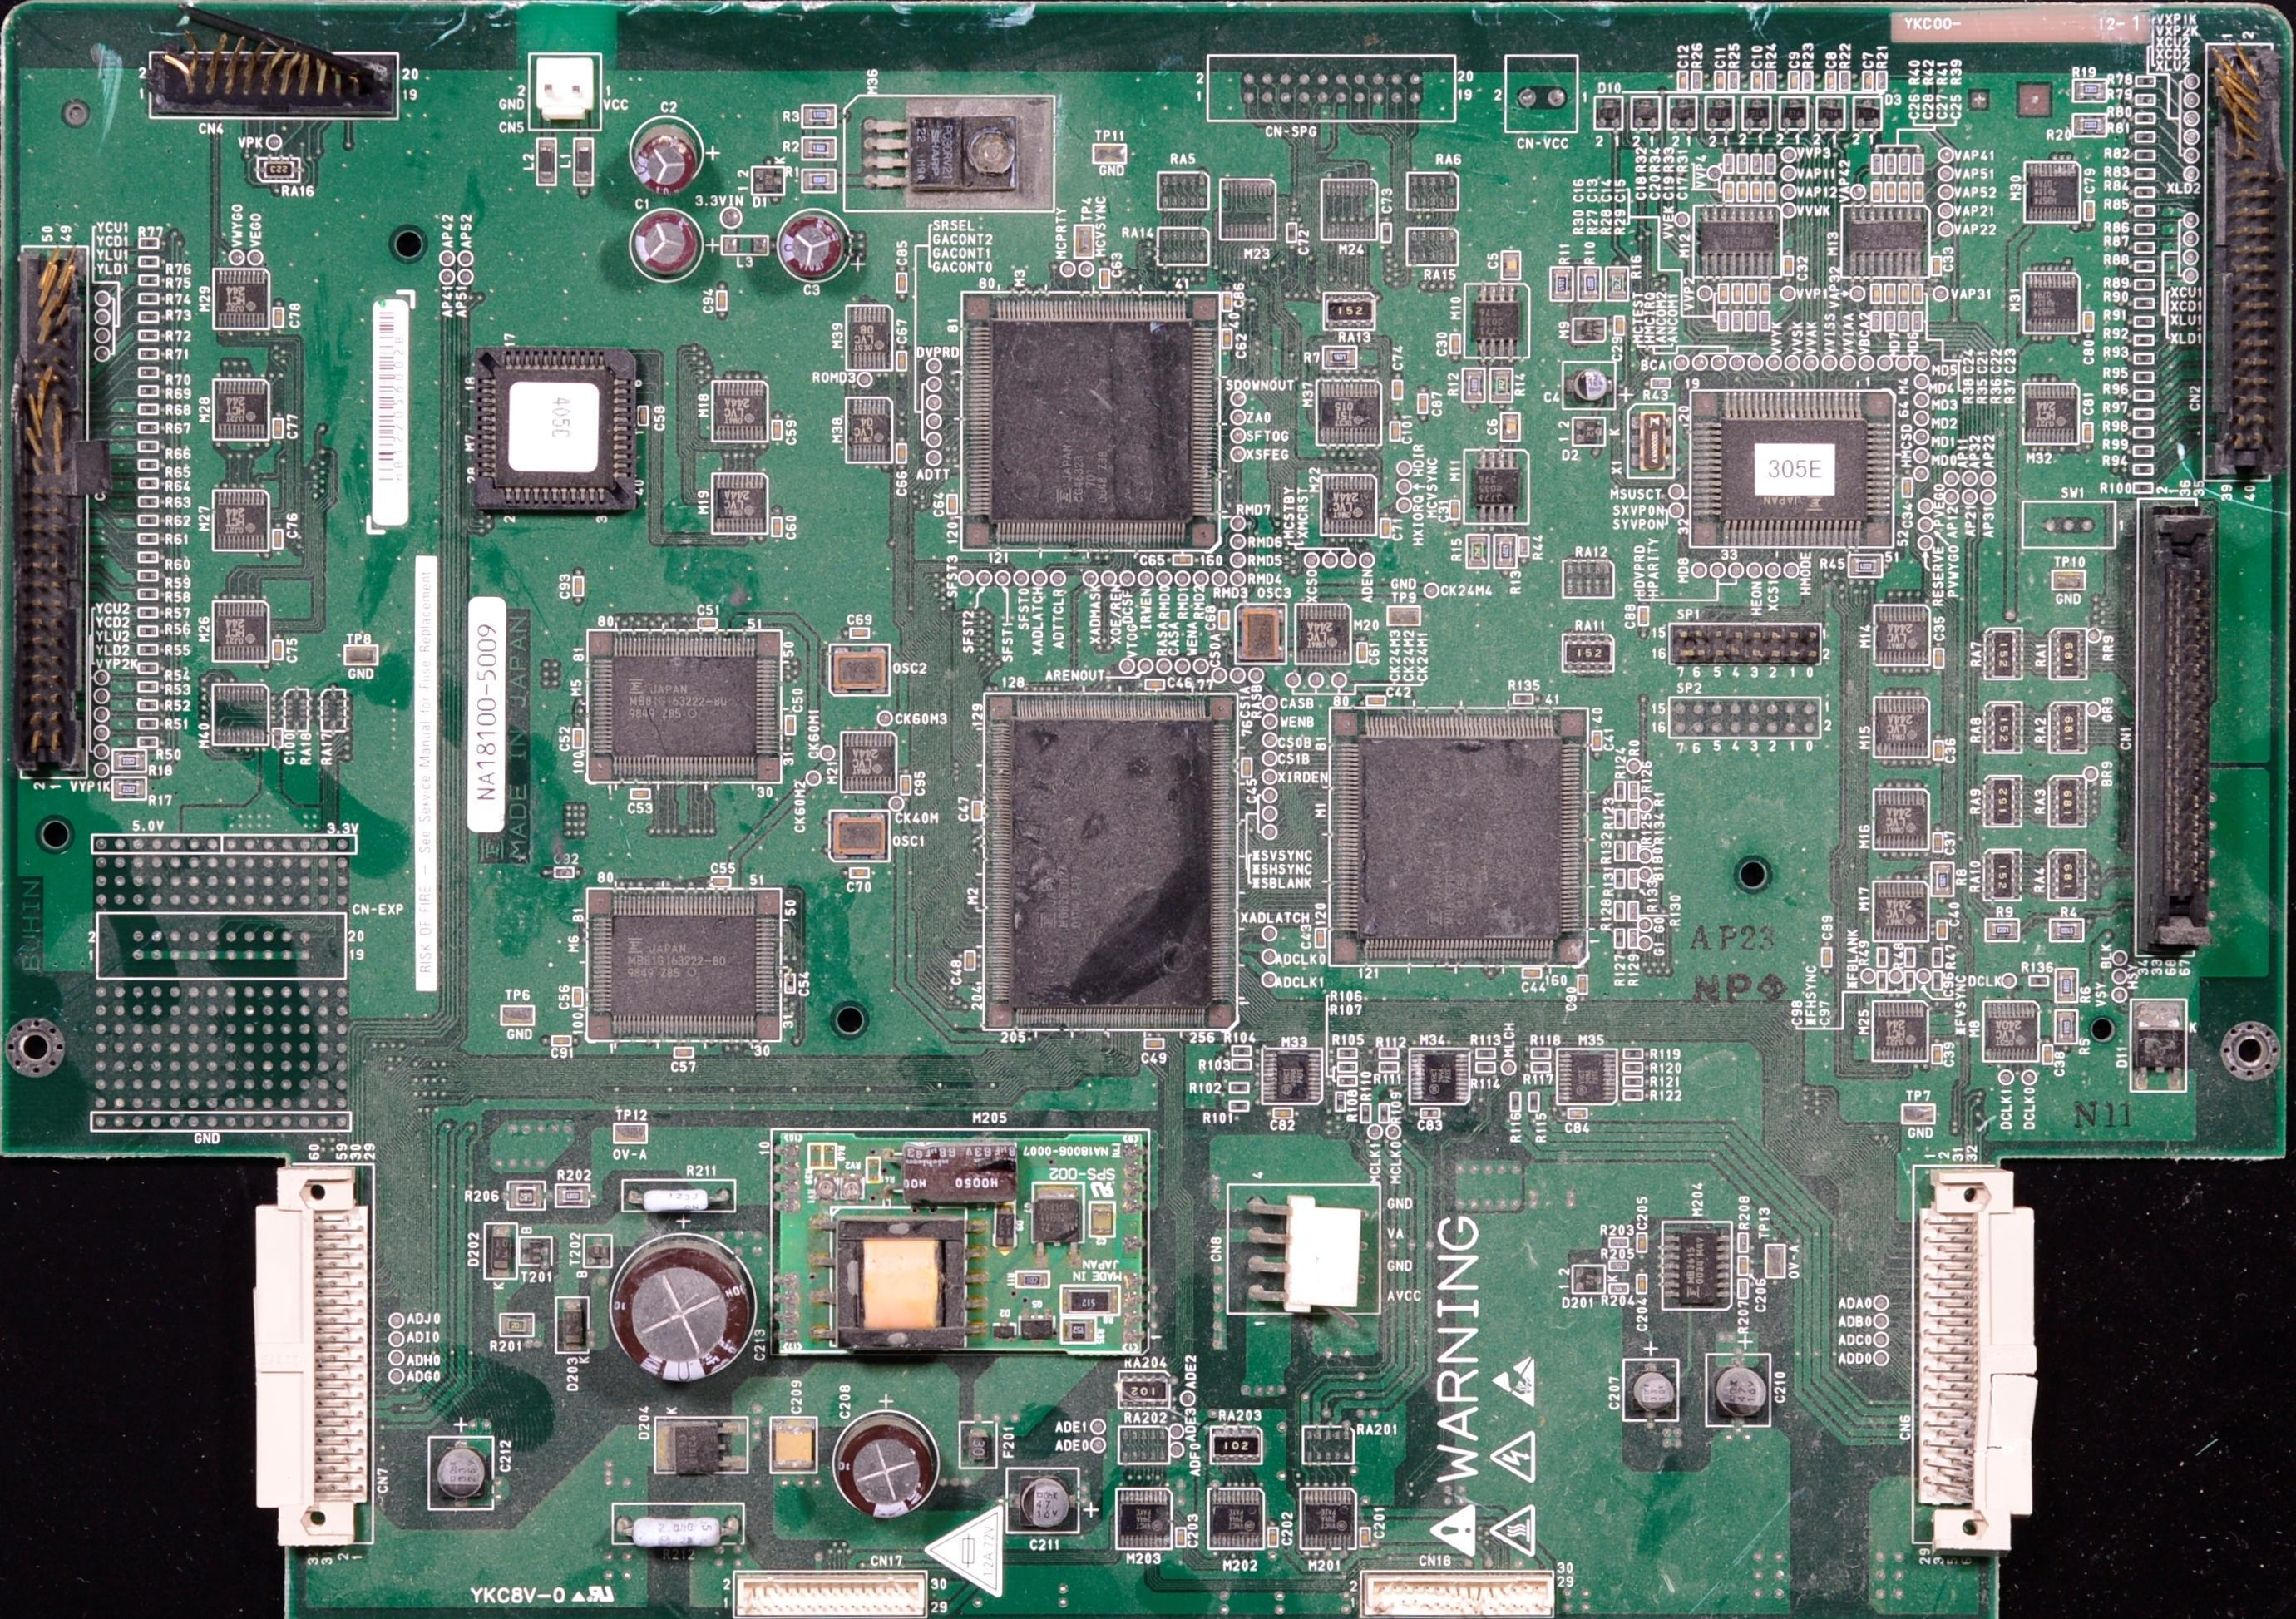Capacitor: (619, 1238, 752, 1384), (839, 1415, 932, 1522), (430, 1439, 492, 1512), (778, 212, 842, 279), (1708, 1357, 1770, 1423), (634, 129, 699, 190), (634, 211, 695, 277), (767, 1419, 822, 1481), (1011, 1471, 1072, 1528), (1627, 1360, 1676, 1419), (1504, 245, 1528, 284), (1413, 387, 1434, 417), (1501, 412, 1522, 440), (1387, 378, 1406, 407), (1612, 773, 1629, 808), (713, 287, 733, 315), (1928, 829, 1948, 851), (866, 1156, 884, 1182), (1714, 71, 1731, 99), (847, 865, 875, 881), (1612, 318, 1631, 339), (274, 634, 287, 663), (896, 269, 911, 294), (1721, 176, 1733, 204), (1783, 257, 1797, 284), (2082, 422, 2101, 444), (1144, 677, 1164, 694), (783, 717, 800, 738), (1390, 421, 1405, 443), (1861, 72, 1877, 95), (825, 1143, 838, 1167), (1869, 181, 1882, 205), (1354, 644, 1368, 667), (572, 578, 588, 599), (1746, 281, 1758, 307), (270, 305, 284, 328), (1786, 71, 1801, 93), (1753, 180, 1765, 205), (1101, 269, 1113, 292), (1872, 286, 1885, 309), (629, 789, 652, 801), (1750, 71, 1764, 94), (673, 1045, 694, 1059), (1285, 224, 1300, 244), (770, 420, 785, 442), (1933, 736, 1944, 763), (2084, 307, 2093, 339), (1274, 1108, 1296, 1119), (1635, 1232, 1647, 1254), (1222, 292, 1234, 315), (901, 775, 912, 797), (969, 800, 981, 824), (1716, 284, 1730, 303), (851, 626, 871, 640), (963, 950, 976, 971), (1377, 220, 1388, 245), (699, 616, 719, 629), (946, 496, 960, 514), (271, 530, 281, 557), (1931, 648, 1945, 666), (1361, 1528, 1371, 1550), (2082, 200, 2093, 222), (896, 352, 906, 375), (1884, 184, 1896, 203), (896, 446, 906, 465), (1591, 733, 1602, 751), (1637, 1274, 1647, 1300), (275, 413, 284, 440), (571, 986, 582, 1008), (551, 1035, 573, 1045), (1267, 1527, 1279, 1547), (1739, 180, 1749, 201), (1886, 282, 1896, 303), (1760, 283, 1771, 303), (1732, 284, 1743, 305), (571, 729, 581, 750), (809, 1144, 818, 1168), (1901, 155, 1913, 172), (1242, 758, 1253, 776), (1575, 975, 1586, 995), (1420, 1106, 1440, 1116), (1872, 156, 1884, 175), (1639, 607, 1649, 626), (1144, 1039, 1166, 1048), (713, 874, 729, 886), (1569, 1108, 1586, 1120), (1524, 970, 1544, 979), (788, 971, 796, 996), (1765, 180, 1774, 202), (1900, 182, 1908, 203), (1914, 182, 1923, 203), (1931, 252, 1940, 273), (1902, 476, 1911, 498), (1679, 69, 1687, 92), (1367, 698, 1387, 707), (1826, 72, 1835, 91), (1900, 286, 1909, 303), (1316, 928, 1326, 945), (1889, 155, 1894, 174), (1179, 1527, 1184, 1551), (1915, 155, 1922, 175), (1914, 286, 1922, 301)
IC: (993, 697, 1238, 1025), (1341, 703, 1596, 975), (958, 292, 1227, 545), (469, 348, 642, 528), (587, 888, 784, 1044), (1694, 379, 1875, 545), (595, 632, 785, 782), (1660, 1219, 1727, 1306), (1295, 1470, 1358, 1551), (1400, 1045, 1481, 1105), (1316, 386, 1383, 450), (1869, 1004, 1930, 1069), (1107, 1485, 1168, 1549), (1876, 605, 1936, 669), (837, 731, 902, 790), (1257, 1045, 1322, 1104), (1869, 791, 1927, 856), (211, 266, 268, 330), (1983, 1001, 2040, 1060), (1872, 878, 1924, 942), (1557, 1054, 1619, 1107), (216, 491, 270, 549), (214, 601, 268, 659), (208, 691, 269, 742), (1213, 1485, 1266, 1543), (210, 385, 267, 438), (1323, 475, 1375, 529), (1880, 698, 1924, 754)
Resistor: (1559, 638, 1620, 678), (1157, 171, 1208, 215), (1408, 171, 1464, 210), (496, 1309, 537, 1345), (1978, 914, 2022, 947), (550, 1180, 597, 1209), (2069, 110, 2111, 144), (1326, 299, 1380, 322), (799, 167, 846, 191), (502, 1184, 546, 1209), (1483, 363, 1510, 401), (2070, 77, 2109, 101), (799, 103, 837, 128), (1319, 345, 1358, 368), (2050, 919, 2080, 944), (1462, 368, 1489, 399), (802, 137, 835, 160), (1934, 861, 1956, 897), (1607, 266, 1627, 304), (110, 777, 143, 799), (1551, 268, 1577, 297), (112, 750, 146, 769), (1617, 1045, 1650, 1063), (1584, 262, 1599, 300), (1474, 1045, 1499, 1063), (2134, 74, 2157, 90), (2136, 405, 2157, 422), (2124, 333, 2154, 345), (1611, 840, 1626, 863), (1690, 69, 1703, 94), (1836, 72, 1850, 95), (139, 568, 157, 584), (1230, 1098, 1250, 1113), (1873, 311, 1884, 338), (139, 348, 160, 358), (2130, 353, 2153, 367), (136, 516, 158, 527), (2134, 485, 2159, 496), (140, 661, 156, 679), (1473, 1061, 1497, 1073), (138, 237, 163, 248), (1913, 312, 1926, 333), (2134, 371, 2154, 383), (136, 606, 156, 618), (1728, 72, 1741, 93), (2130, 447, 2157, 455), (1607, 1283, 1630, 1294), (136, 329, 159, 339), (137, 383, 160, 394), (137, 552, 159, 562), (136, 625, 158, 636), (1233, 1059, 1252, 1072), (1230, 1083, 1249, 1094), (2134, 313, 2152, 326), (1232, 1047, 1254, 1057), (2138, 118, 2160, 127), (138, 274, 159, 286), (140, 311, 160, 320), (138, 459, 159, 470), (138, 476, 160, 487), (2136, 262, 2153, 273), (141, 422, 159, 434), (2136, 170, 2155, 181), (1884, 312, 1894, 331), (139, 402, 157, 413), (140, 698, 159, 709), (139, 294, 161, 303), (2139, 149, 2153, 162), (1362, 1102, 1371, 1123), (2136, 243, 2155, 254), (2136, 280, 2153, 290), (140, 442, 157, 452), (139, 496, 156, 506), (137, 589, 158, 598), (136, 645, 158, 654), (139, 681, 156, 693), (142, 718, 160, 729), (139, 738, 159, 747), (2138, 96, 2158, 105), (140, 257, 159, 266), (137, 366, 156, 375), (2134, 467, 2155, 475), (140, 532, 157, 542), (1875, 72, 1883, 93), (1899, 309, 1908, 330), (2138, 225, 2156, 231), (1806, 74, 1810, 96), (2141, 190, 2155, 198), (2138, 301, 2155, 306), (2136, 135, 2153, 140), (2136, 212, 2151, 218), (1887, 75, 1888, 77)
Transistor: (519, 1235, 550, 1267), (584, 1235, 614, 1268), (502, 1002, 538, 1026)
